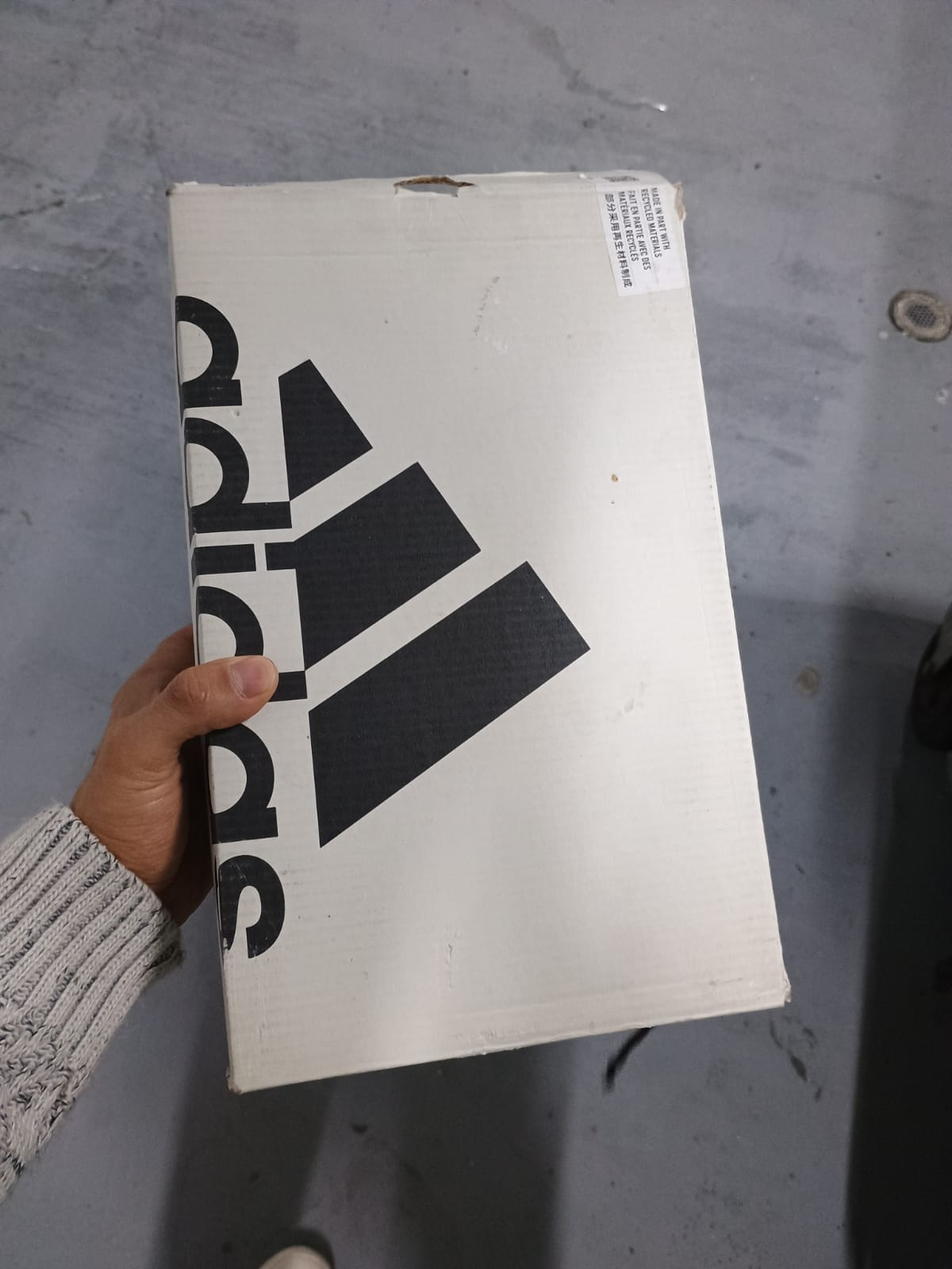Carton: (168, 173, 788, 1096)
